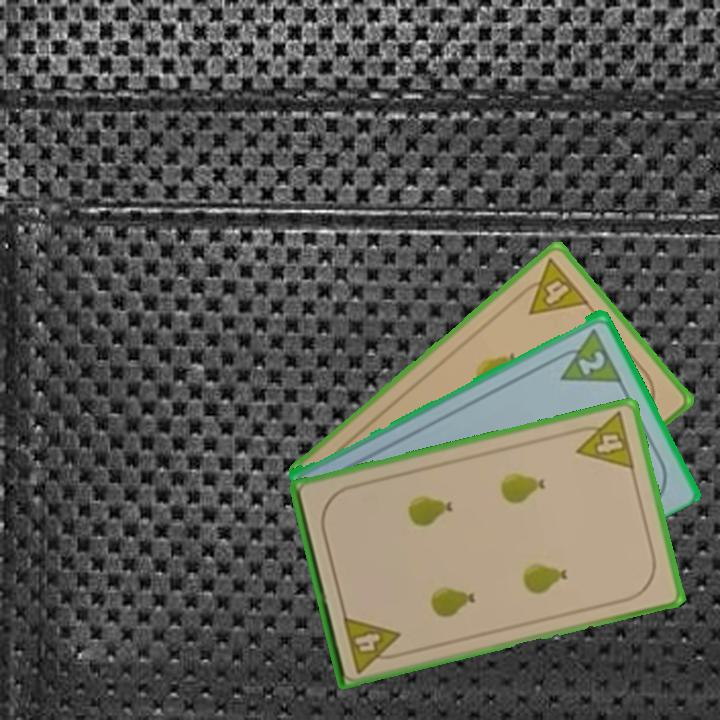2p: (548, 324, 624, 385)
4p: (512, 255, 592, 318), (568, 408, 638, 473), (339, 611, 406, 676)
